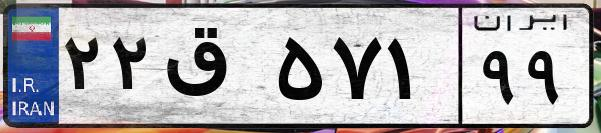1: (385, 28, 445, 110)
2: (57, 26, 110, 100), (110, 28, 158, 98)
5: (270, 28, 330, 110)
7: (330, 28, 385, 110)
9: (475, 38, 525, 113), (525, 38, 570, 115)
ق: (158, 20, 270, 120)
